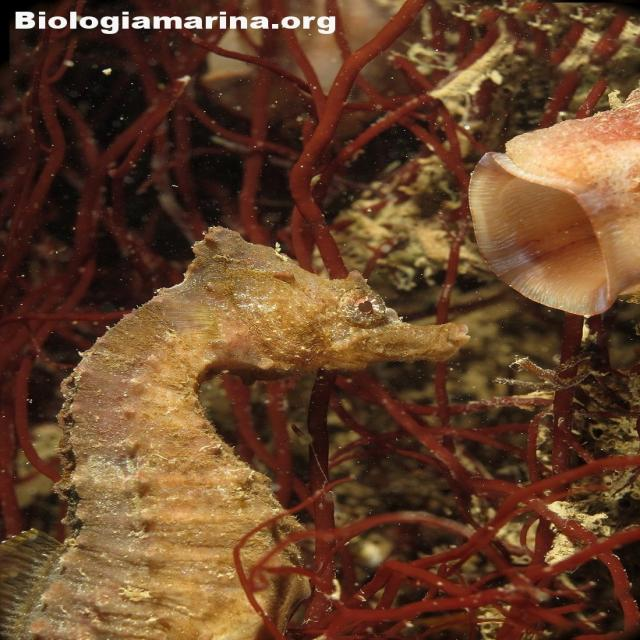Hippo: (166, 206, 483, 378)
